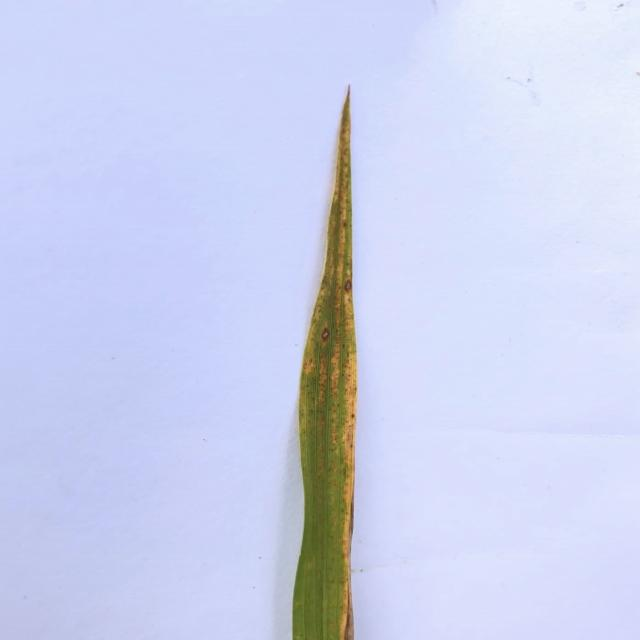tungro: (327, 86, 359, 640), (295, 339, 313, 438)
